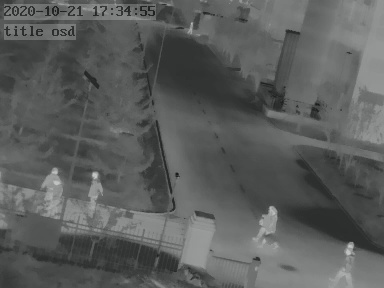person: (40, 165, 62, 207), (335, 243, 355, 286), (86, 169, 104, 211), (258, 206, 278, 243), (186, 19, 193, 35)
